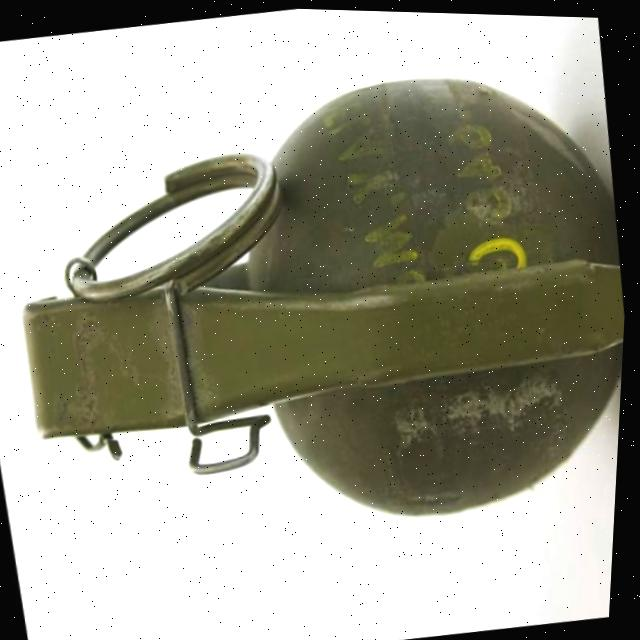grenade: (0, 11, 640, 610)
